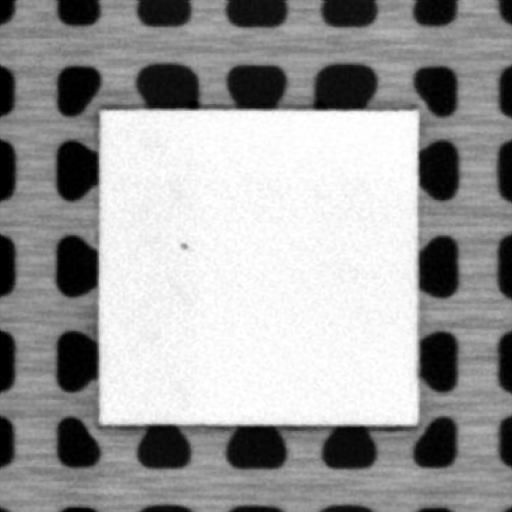DIE_INK: (176, 238, 190, 252)
